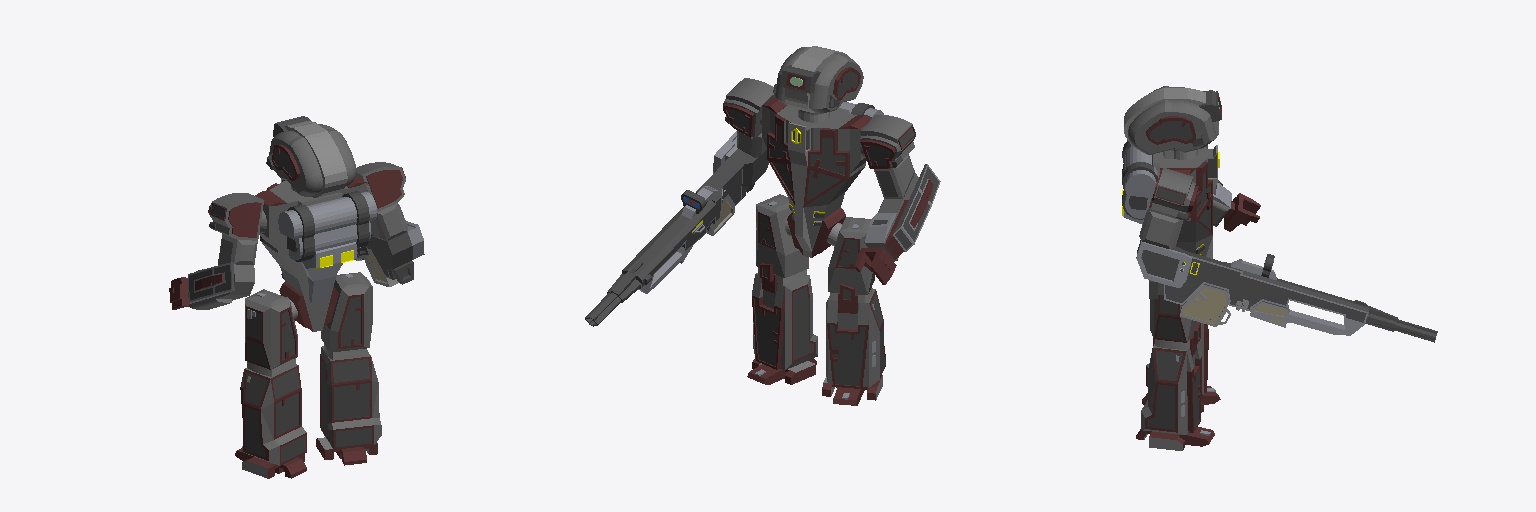
Rendered from infantry_bot_mk4.obj.
3 renders of one model, left to right at view 1: azimuth 30°, elevation 25°; view 2: azimuth 150°, elevation 25°; view 3: azimuth 270°, elevation 25°, orthographic.
Visible parts, largest first — view 1: infantry_bot_mk4-COM-Group_6-27338-CoolGray6, infantry_bot_mk4-COM-Group_23-27339-CoolGray6, infantry_bot_mk4-COM-Group_5-27329-CoolGray5, infantry_bot_mk4-COM-Group_23-27339-Color_0031, infantry_bot_mk4-GRP-27332-Color_0051, infantry_bot_mk4-COM-Group_5-27329-Color_0051, infantry_bot_mk4-COM-leg_2-27336-Color_0051, infantry_bot_mk4-COM-gun_arm_2-27333-Color_006, infantry_bot_mk4-COM-Group_26-27324-Color_0051, infantry_bot_mk4-COM-Group_6-27338-Color_0031, infantry_bot_mk4-COM-Group_36-27328-CoolGray5, infantry_bot_mk4-COM-leg_3-27337-Color_0051 (+19 smaller); view 2: infantry_bot_mk4-COM-gun_arm_2-27333-Color_006, infantry_bot_mk4-COM-leg_2-27336-Color_0051, infantry_bot_mk4-COM-Group_6-27338-CoolGray6, infantry_bot_mk4-COM-Group_5-27329-Color_0051, infantry_bot_mk4-COM-Group_23-27339-Color_0051, infantry_bot_mk4-COM-Group_6-27338-Color_0031, infantry_bot_mk4-COM-Group_23-27339-CoolGray6, infantry_bot_mk4-COM-Group_6-27338-Color_0051, infantry_bot_mk4-COM-leg_3-27337-Color_0051, infantry_bot_mk4-GRP-27332-Color_0051, infantry_bot_mk4-COM-gun_arm_2-27333-CoolGray5, infantry_bot_mk4-COM-Group_26-27324-Color_0051 (+20 smaller); view 3: infantry_bot_mk4-COM-gun_arm_2-27333-Color_006, infantry_bot_mk4-COM-gun_arm_2-27333-CoolGray5, infantry_bot_mk4-COM-Group_2-27323-Color_0051, infantry_bot_mk4-COM-Group_6-27338-Color_0031, infantry_bot_mk4-COM-Group_6-27338-CoolGray6, infantry_bot_mk4-COM-Group_6-27338-Color_0051, infantry_bot_mk4-COM-Group_36-27328-CoolGray5, infantry_bot_mk4-COM-Group_4-27327-Color_0051, infantry_bot_mk4-COM-gun_arm_2-27333-Color_D151, infantry_bot_mk4-GRP-27331-Color_0051, infantry_bot_mk4-COM-Group_36-27328-CoolGray6, infantry_bot_mk4-COM-Group_36-27328-Color_0051 (+8 smaller).
Part boxes in pixels (bbox=[...]): infantry_bot_mk4-COM-Group_6-27338-CoolGray6: bbox=[321, 359, 371, 446]; infantry_bot_mk4-COM-Group_23-27339-CoolGray6: bbox=[245, 368, 305, 462]; infantry_bot_mk4-COM-Group_5-27329-CoolGray5: bbox=[278, 201, 336, 281]; infantry_bot_mk4-COM-Group_23-27339-Color_0031: bbox=[235, 365, 306, 478]; infantry_bot_mk4-GRP-27332-Color_0051: bbox=[189, 233, 257, 309]; infantry_bot_mk4-COM-Group_5-27329-Color_0051: bbox=[259, 181, 321, 278]; infantry_bot_mk4-COM-leg_2-27336-Color_0051: bbox=[321, 272, 372, 352]; infantry_bot_mk4-COM-gun_arm_2-27333-Color_006: bbox=[357, 232, 413, 284]; infantry_bot_mk4-COM-Group_26-27324-Color_0051: bbox=[269, 131, 322, 196]; infantry_bot_mk4-COM-Group_6-27338-Color_0031: bbox=[316, 356, 377, 465]; infantry_bot_mk4-COM-Group_36-27328-CoolGray5: bbox=[324, 192, 376, 278]; infantry_bot_mk4-COM-leg_3-27337-Color_0051: bbox=[245, 289, 297, 369]; infantry_bot_mk4-COM-gun_arm_2-27333-Color_006: bbox=[585, 149, 768, 326]; infantry_bot_mk4-COM-leg_2-27336-Color_0051: bbox=[756, 194, 808, 277]; infantry_bot_mk4-COM-Group_6-27338-CoolGray6: bbox=[754, 287, 813, 365]; infantry_bot_mk4-COM-Group_5-27329-Color_0051: bbox=[802, 108, 866, 206]; infantry_bot_mk4-COM-Group_23-27339-Color_0051: bbox=[826, 288, 879, 387]; infantry_bot_mk4-COM-Group_6-27338-Color_0031: bbox=[747, 284, 816, 384]; infantry_bot_mk4-COM-Group_23-27339-CoolGray6: bbox=[830, 294, 885, 385]; infantry_bot_mk4-COM-Group_6-27338-Color_0051: bbox=[752, 273, 817, 369]; infantry_bot_mk4-COM-leg_3-27337-Color_0051: bbox=[828, 217, 872, 294]; infantry_bot_mk4-GRP-27332-Color_0051: bbox=[864, 154, 918, 260]; infantry_bot_mk4-COM-gun_arm_2-27333-CoolGray5: bbox=[638, 131, 743, 293]; infantry_bot_mk4-COM-Group_26-27324-Color_0051: bbox=[809, 53, 863, 113]; infantry_bot_mk4-COM-gun_arm_2-27333-Color_006: bbox=[1137, 240, 1437, 342]; infantry_bot_mk4-COM-gun_arm_2-27333-CoolGray5: bbox=[1136, 241, 1368, 335]; infantry_bot_mk4-COM-Group_2-27323-Color_0051: bbox=[1128, 100, 1216, 154]; infantry_bot_mk4-COM-Group_6-27338-Color_0031: bbox=[1136, 348, 1214, 449]; infantry_bot_mk4-COM-Group_6-27338-CoolGray6: bbox=[1148, 350, 1199, 429]; infantry_bot_mk4-COM-Group_6-27338-Color_0051: bbox=[1141, 342, 1201, 434]; infantry_bot_mk4-COM-Group_36-27328-CoolGray5: bbox=[1124, 154, 1159, 224]; infantry_bot_mk4-COM-Group_4-27327-Color_0051: bbox=[1150, 168, 1195, 220]; infantry_bot_mk4-COM-gun_arm_2-27333-Color_D151: bbox=[1183, 288, 1286, 323]; infantry_bot_mk4-GRP-27331-Color_0051: bbox=[1139, 208, 1182, 249]; infantry_bot_mk4-COM-Group_36-27328-CoolGray6: bbox=[1122, 155, 1216, 229]; infantry_bot_mk4-COM-Group_36-27328-Color_0051: bbox=[1152, 149, 1215, 241].
Bounding box in the file's own units: 1.48 × 2.17 × 1.9.